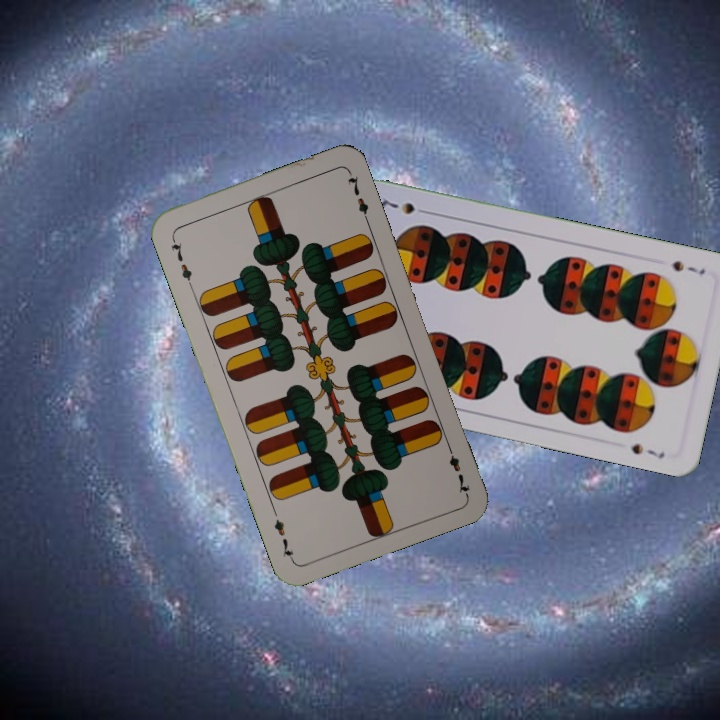E7: (443, 440, 473, 497), (167, 233, 195, 290)
S7: (668, 256, 708, 277)
